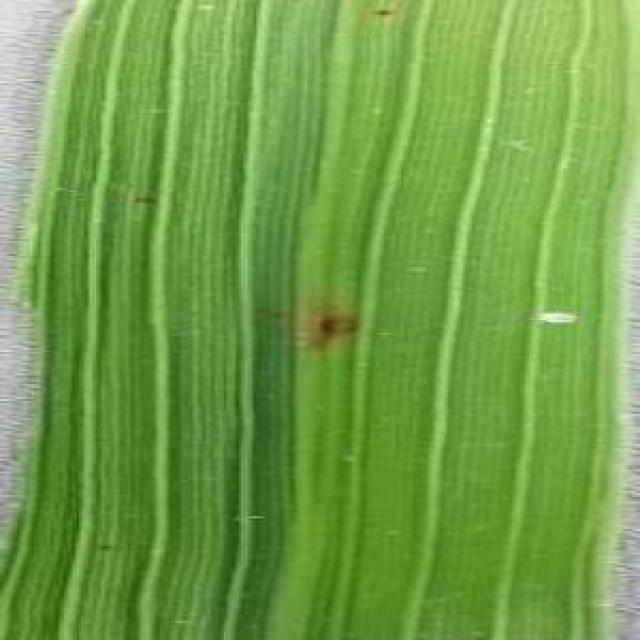Brown_Spot: (298, 297, 370, 355), (370, 0, 404, 21)
